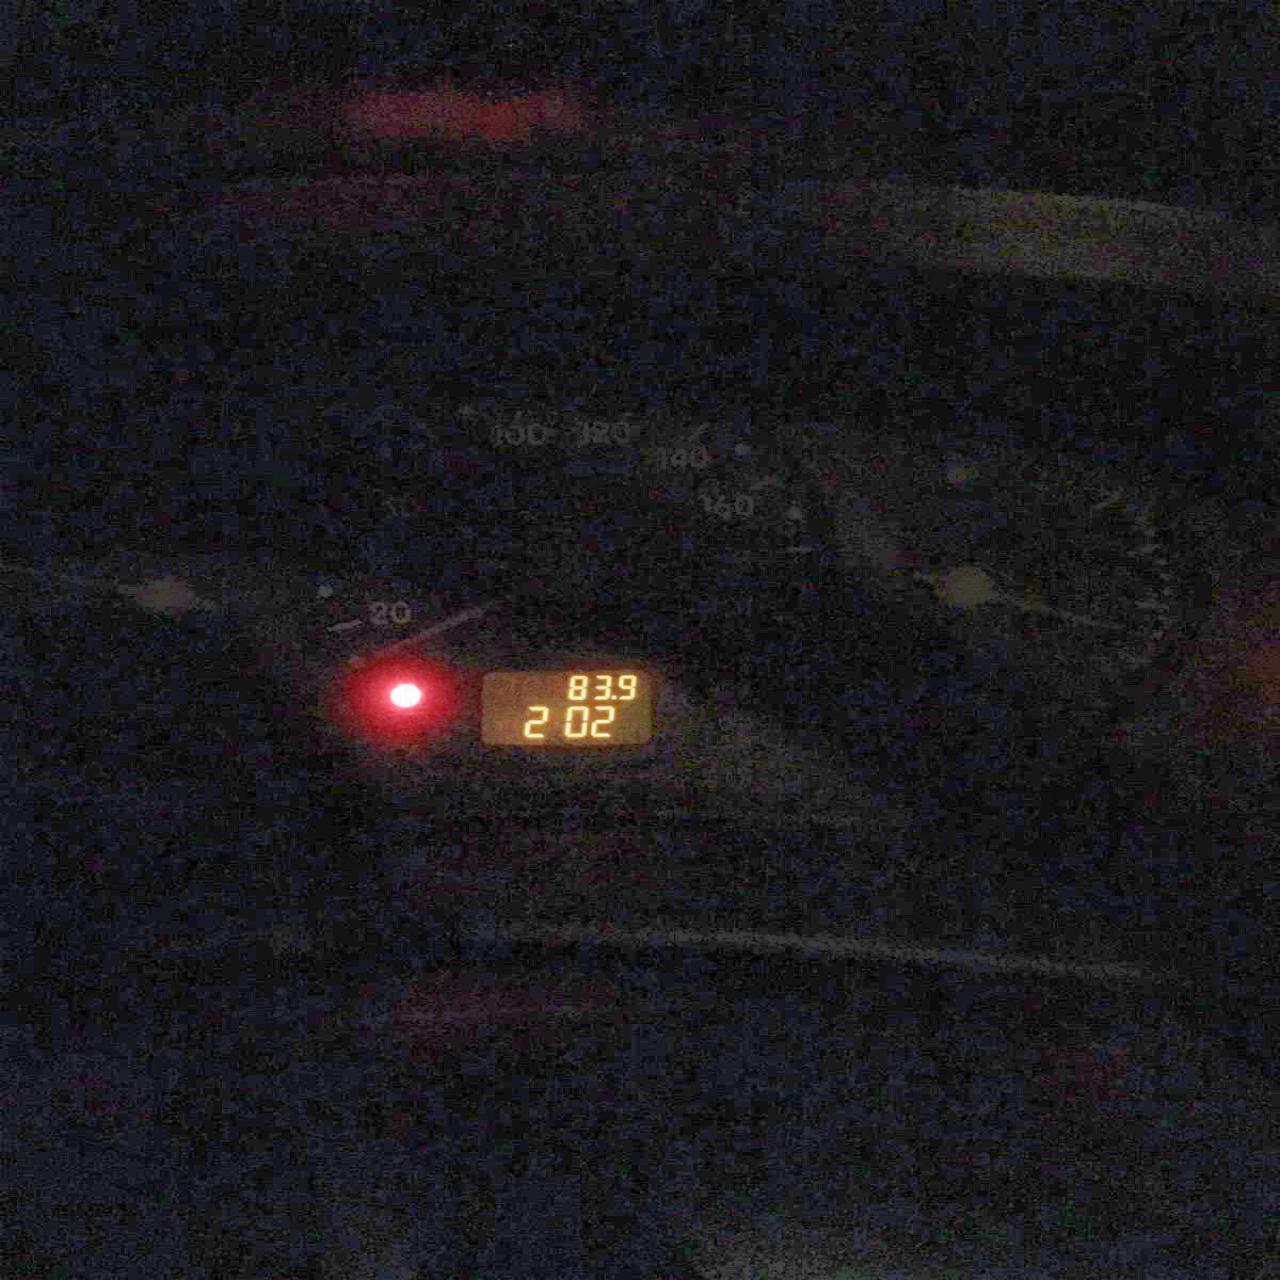-: (610, 694, 617, 700)
0: (564, 706, 588, 737)
2: (588, 704, 614, 737), (523, 706, 549, 737)
3: (592, 674, 611, 700)
8: (566, 674, 587, 700)
9: (617, 674, 635, 700)
odometer: (477, 665, 656, 749)
